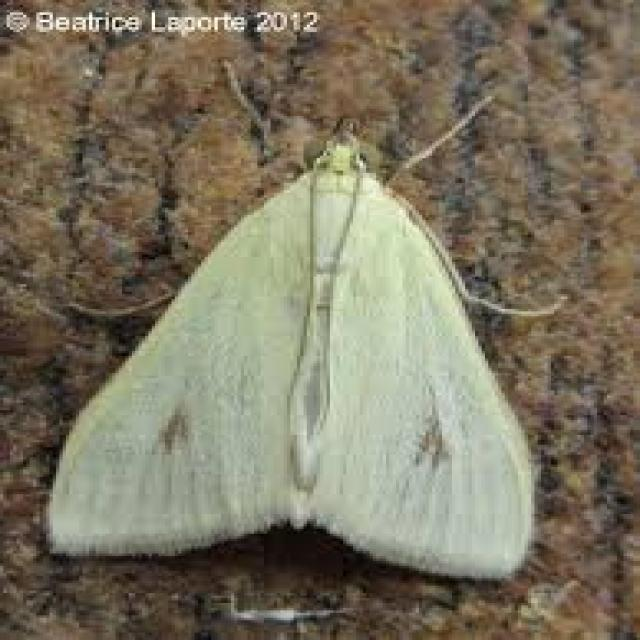yellow-stem-borer: (39, 76, 592, 592)
